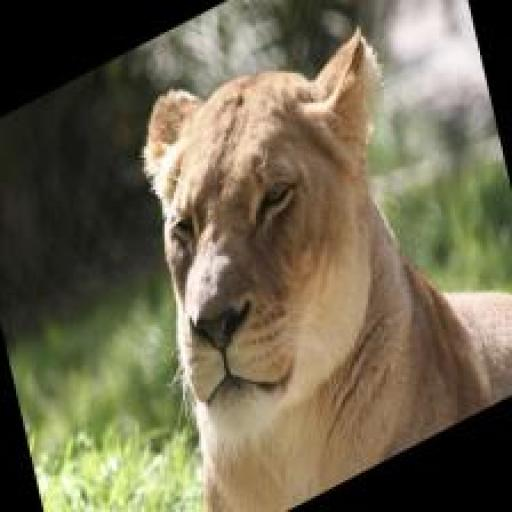lion: (105, 0, 512, 511)
